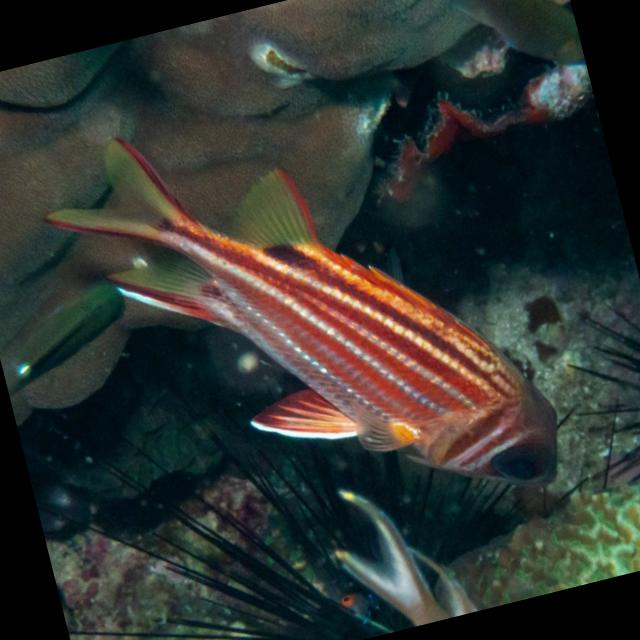Asker Baligi: (18, 31, 619, 616)
